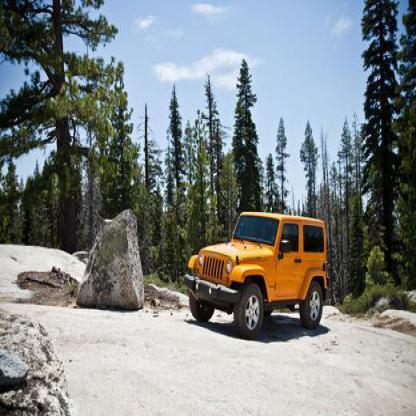Vehicle: (176, 200, 332, 344)
